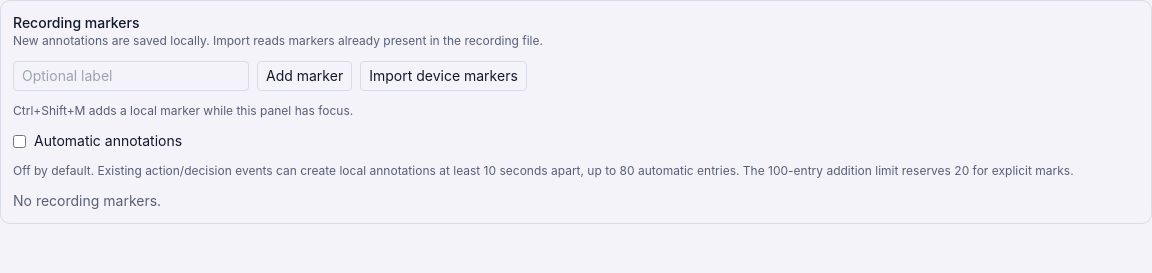
Test: DeviceRecordingMarkers › reuses a submission UUID and payload after uncertain save failure
Click the button "Add marker" at (305, 76), box [257,61,352,91]
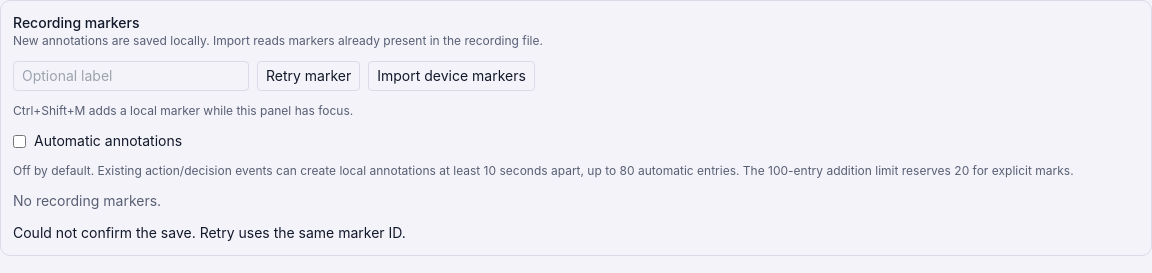
Click the button "Retry marker" at (309, 76), box [257,61,360,91]
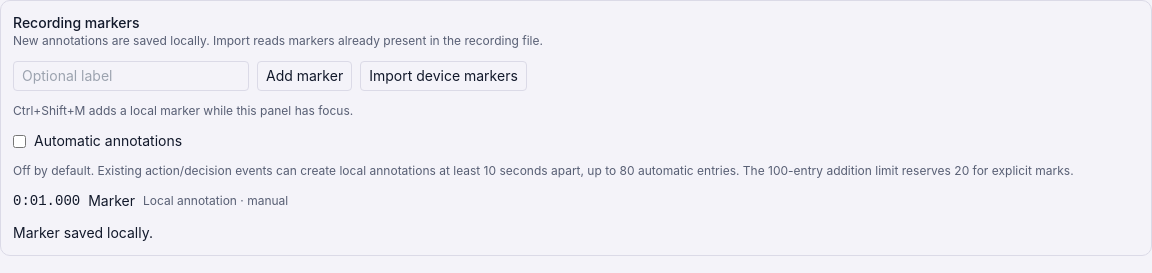
Check: the text "Marker saved locally." is shown, box [13,224,153,241]
